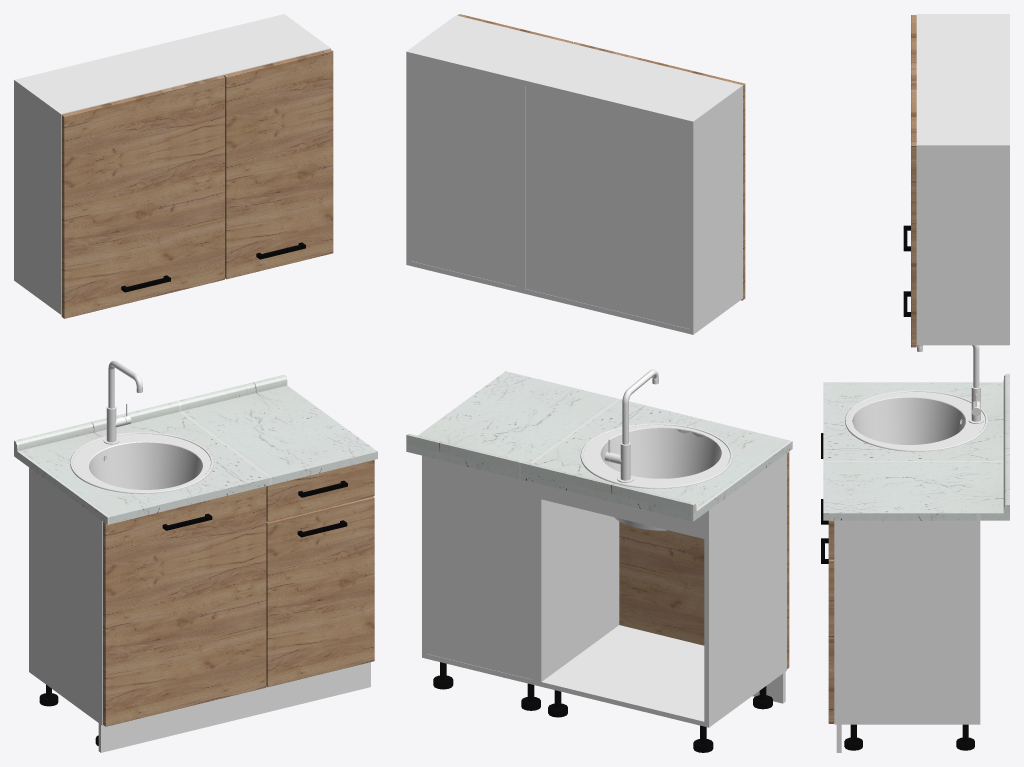
The picture shows the model from 3 angles, left to right: view 1: azimuth 30°, elevation 25°; view 2: azimuth 150°, elevation 25°; view 3: azimuth 270°, elevation 25°; orthographic projection. The views are drawn at different scales.
Parts seen in each view (by area): view 1: 596,716;1224;Facade_top_mesh_333361AF-EAF5-4C83-AF9D-24F4575, 596,720;1224;Facade_bottom_mesh_C18DAA27-8430-4DC0-9C5F-A129, 396,716;1224;Facade_top_mesh_A2EC848D-500F-44C1-9848-A820291, 396,580;1224;Facade_bottom_mesh_D8898239-71F5-49C1-9E65-9D37, 470,724;1215;Cabinet_bottom_1EAD3F0F-9D73-4604-864F-20C8368C, 400,600;1217;Tabletop_mesh, 300,710;1215;Cabinet_top_7CD726F4-26B2-4217-B53C-4CF8064AD7E, 600,600;1217;Tabletop_mesh, 568,300;1215;Cabinet_top_CABA37D9-5309-4FF9-88F3-A48480A10DB, undefined;Washer_2569CEE2-D85D-4FED-AC0C-69597E370D0B, 368,300;1215;Cabinet_top_545E78F9-5A4C-4A46-805B-C35FC204437, 600,100;1215;Cokol_4C2244D0-02DB-4D02-B7FA-84EE2B77B479 (+5 smaller); view 2: 584,710;1215;Cabinet_top_262BCB06-D269-4E1D-9D32-A2740D42C66, 384,710;1215;Cabinet_top_AA7CA178-B69D-4FD1-BFC1-D9A97D7E9C4, 384,724;1215;Cabinet_bottom_46AD1ADF-B742-48CF-8B9C-9E55786E, 470,724;1215;Cabinet_bottom_1EAD3F0F-9D73-4604-864F-20C8368C, 470,724;1215;Cabinet_bottom_D07037BA-4F1C-4637-9B10-BDA0B526, 300,710;1215;Cabinet_top_7CD726F4-26B2-4217-B53C-4CF8064AD7E, 400,600;1217;Tabletop_mesh, 568,470;1215;Cabinet_bottom_C88566D0-06CA-4007-9FBB-9838904C, 596,720;1224;Facade_bottom_mesh_C18DAA27-8430-4DC0-9C5F-A129, 600,600;1217;Tabletop_mesh, 568,300;1215;Cabinet_top_CABA37D9-5309-4FF9-88F3-A48480A10DB, undefined;Washer_2569CEE2-D85D-4FED-AC0C-69597E370D0B (+12 smaller); view 3: 470,724;1215;Cabinet_bottom_98C1487F-CE0D-4B8F-B0F4-92887F88, 300,710;1215;Cabinet_top_7FC9A411-405E-4374-9B16-E3088DE6E33, 400,600;1217;Tabletop_mesh, 600,600;1217;Tabletop_mesh, 568,300;1215;Cabinet_top_CABA37D9-5309-4FF9-88F3-A48480A10DB, undefined;Washer_2569CEE2-D85D-4FED-AC0C-69597E370D0B, 368,300;1215;Cabinet_top_545E78F9-5A4C-4A46-805B-C35FC204437, 396,716;1224;Facade_top_mesh_A2EC848D-500F-44C1-9848-A820291, 396,580;1224;Facade_bottom_mesh_D8898239-71F5-49C1-9E65-9D37, undefined;Washer_96771B70-EEA8-4E9D-B925-1771FF636313, 600,30;1217;Tabletop_mesh_7BD5090D-0C4B-46D3-B42F-4A44EE2ED6, 596,716;1224;Facade_top_mesh_333361AF-EAF5-4C83-AF9D-24F4575 (+1 smaller).
Part boxes in pixels (left/top/right/bottom): 596,716;1224;Facade_top_mesh_333361AF-EAF5-4C83-AF9D-24F4575: left=61, top=75, right=224, bottom=318; 596,720;1224;Facade_bottom_mesh_C18DAA27-8430-4DC0-9C5F-A129: left=103, top=486, right=266, bottom=726; 396,716;1224;Facade_top_mesh_A2EC848D-500F-44C1-9848-A820291: left=223, top=49, right=333, bottom=279; 396,580;1224;Facade_bottom_mesh_D8898239-71F5-49C1-9E65-9D37: left=266, top=496, right=374, bottom=686; 470,724;1215;Cabinet_bottom_1EAD3F0F-9D73-4604-864F-20C8368C: left=29, top=467, right=102, bottom=725; 400,600;1217;Tabletop_mesh: left=179, top=385, right=377, bottom=485; 300,710;1215;Cabinet_top_7CD726F4-26B2-4217-B53C-4CF8064AD7E: left=14, top=79, right=65, bottom=314; 600,600;1217;Tabletop_mesh: left=14, top=412, right=269, bottom=524; 568,300;1215;Cabinet_top_CABA37D9-5309-4FF9-88F3-A48480A10DB: left=19, top=41, right=218, bottom=113; undefined;Washer_2569CEE2-D85D-4FED-AC0C-69597E370D0B: left=70, top=432, right=213, bottom=493; 368,300;1215;Cabinet_top_545E78F9-5A4C-4A46-805B-C35FC204437: left=181, top=15, right=326, bottom=73; 600,100;1215;Cokol_4C2244D0-02DB-4D02-B7FA-84EE2B77B479: left=98, top=688, right=262, bottom=752; 584,710;1215;Cabinet_top_262BCB06-D269-4E1D-9D32-A2740D42C66: left=526, top=80, right=690, bottom=328; 384,710;1215;Cabinet_top_AA7CA178-B69D-4FD1-BFC1-D9A97D7E9C4: left=409, top=51, right=518, bottom=286; 384,724;1215;Cabinet_bottom_46AD1ADF-B742-48CF-8B9C-9E55786E: left=426, top=457, right=532, bottom=679; 470,724;1215;Cabinet_bottom_1EAD3F0F-9D73-4604-864F-20C8368C: left=704, top=453, right=786, bottom=727; 470,724;1215;Cabinet_bottom_D07037BA-4F1C-4637-9B10-BDA0B526: left=536, top=483, right=619, bottom=686; 300,710;1215;Cabinet_top_7CD726F4-26B2-4217-B53C-4CF8064AD7E: left=688, top=84, right=742, bottom=334; 400,600;1217;Tabletop_mesh: left=406, top=371, right=619, bottom=479; 568,470;1215;Cabinet_bottom_C88566D0-06CA-4007-9FBB-9838904C: left=541, top=625, right=704, bottom=726; 596,720;1224;Facade_bottom_mesh_C18DAA27-8430-4DC0-9C5F-A129: left=619, top=452, right=789, bottom=668; 600,600;1217;Tabletop_mesh: left=521, top=399, right=792, bottom=521; 568,300;1215;Cabinet_top_CABA37D9-5309-4FF9-88F3-A48480A10DB: left=525, top=44, right=737, bottom=125; undefined;Washer_2569CEE2-D85D-4FED-AC0C-69597E370D0B: left=580, top=423, right=732, bottom=530; 470,724;1215;Cabinet_bottom_98C1487F-CE0D-4B8F-B0F4-92887F88: left=834, top=520, right=980, bottom=724; 300,710;1215;Cabinet_top_7FC9A411-405E-4374-9B16-E3088DE6E33: left=916, top=143, right=1009, bottom=345; 400,600;1217;Tabletop_mesh: left=823, top=461, right=1009, bottom=520; 600,600;1217;Tabletop_mesh: left=823, top=382, right=1003, bottom=460; 568,300;1215;Cabinet_top_CABA37D9-5309-4FF9-88F3-A48480A10DB: left=916, top=16, right=1009, bottom=90; undefined;Washer_2569CEE2-D85D-4FED-AC0C-69597E370D0B: left=845, top=390, right=987, bottom=451; 368,300;1215;Cabinet_top_545E78F9-5A4C-4A46-805B-C35FC204437: left=916, top=95, right=1009, bottom=143; 396,716;1224;Facade_top_mesh_A2EC848D-500F-44C1-9848-A820291: left=911, top=93, right=916, bottom=347; 396,580;1224;Facade_bottom_mesh_D8898239-71F5-49C1-9E65-9D37: left=828, top=559, right=834, bottom=723; undefined;Washer_96771B70-EEA8-4E9D-B925-1771FF636313: left=917, top=345, right=983, bottom=423; 600,30;1217;Tabletop_mesh_7BD5090D-0C4B-46D3-B42F-4A44EE2ED6: left=1003, top=373, right=1009, bottom=457; 596,716;1224;Facade_top_mesh_333361AF-EAF5-4C83-AF9D-24F4575: left=911, top=15, right=916, bottom=93.
Bounding box in the file's own units: 100 × 216 × 60.7.
49 materials, 40 textured.
